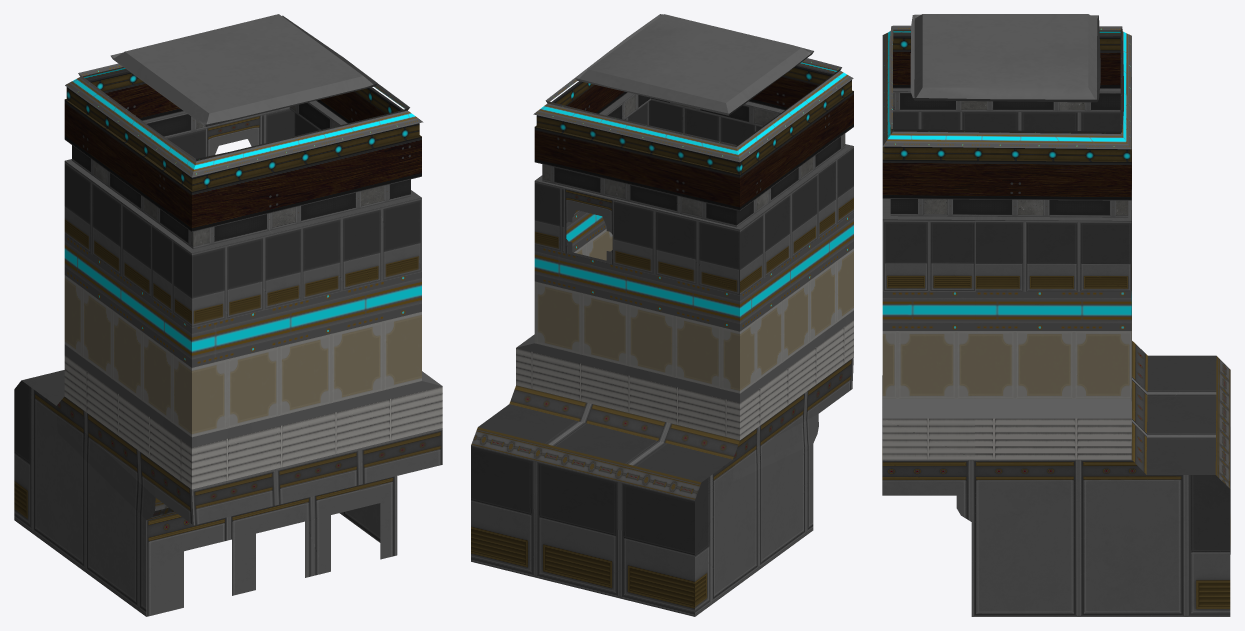
File: new walls.obj
3 renders of one model, left to right at view 1: azimuth 30°, elevation 25°; view 2: azimuth 150°, elevation 25°; view 3: azimuth 270°, elevation 25°, orthographic. The views are drawn at different scales.
Visible parts, largest first — view 1: new_walls WALLS, ROOF new_walls; view 2: new_walls WALLS, ROOF new_walls; view 3: new_walls WALLS, ROOF new_walls.
Boxes of the visible parts, x1,y1,x2,y2 form: new_walls WALLS: [14, 70, 442, 616]; ROOF new_walls: [65, 14, 423, 177]; new_walls WALLS: [471, 65, 853, 616]; ROOF new_walls: [533, 14, 853, 162]; new_walls WALLS: [882, 35, 1230, 616]; ROOF new_walls: [882, 14, 1131, 149].
Size of the model in its own units: 1296 by 2531 by 1593.
2 materials, 1 textured.
